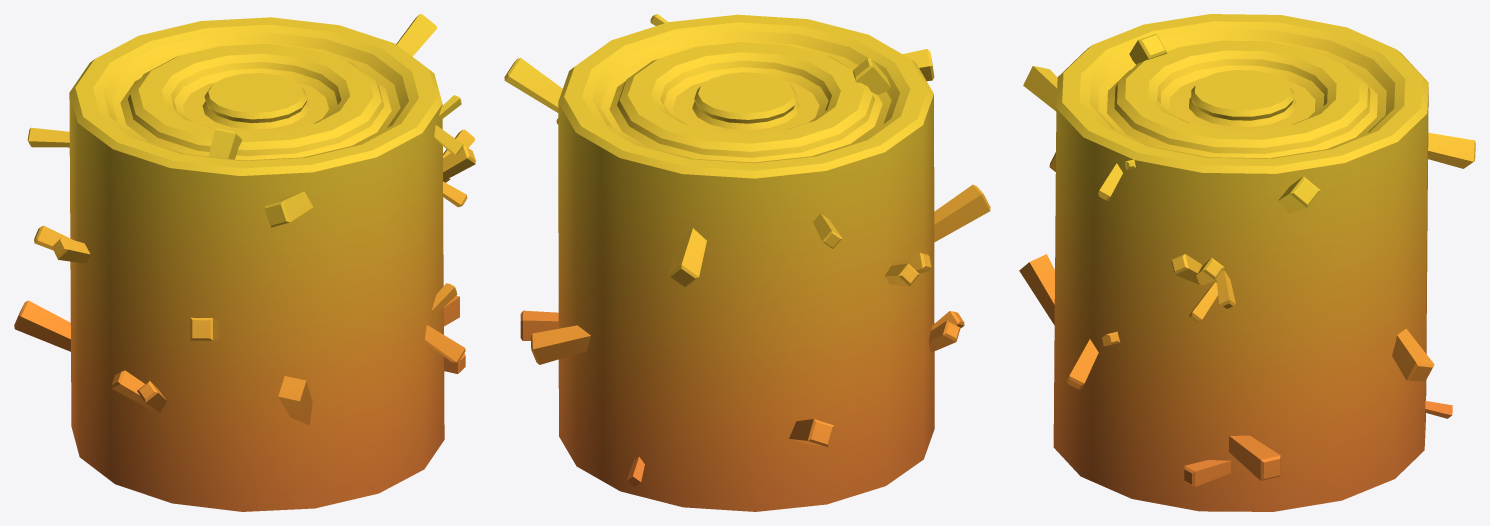
Rendered from Haystack_01.fbx.
3 renders of one model, left to right at view 1: azimuth 30°, elevation 25°; view 2: azimuth 150°, elevation 25°; view 3: azimuth 270°, elevation 25°, orthographic.
Visible parts, largest first — view 1: Haystack_01; view 2: Haystack_01; view 3: Haystack_01.
Boxes of the visible parts, left/top/right/bottom form: Haystack_01: left=14, top=14, right=475, bottom=511; Haystack_01: left=504, top=14, right=990, bottom=511; Haystack_01: left=1019, top=14, right=1475, bottom=511.
Size of the model in its own units: 82.17 by 68.02 by 78.56.
